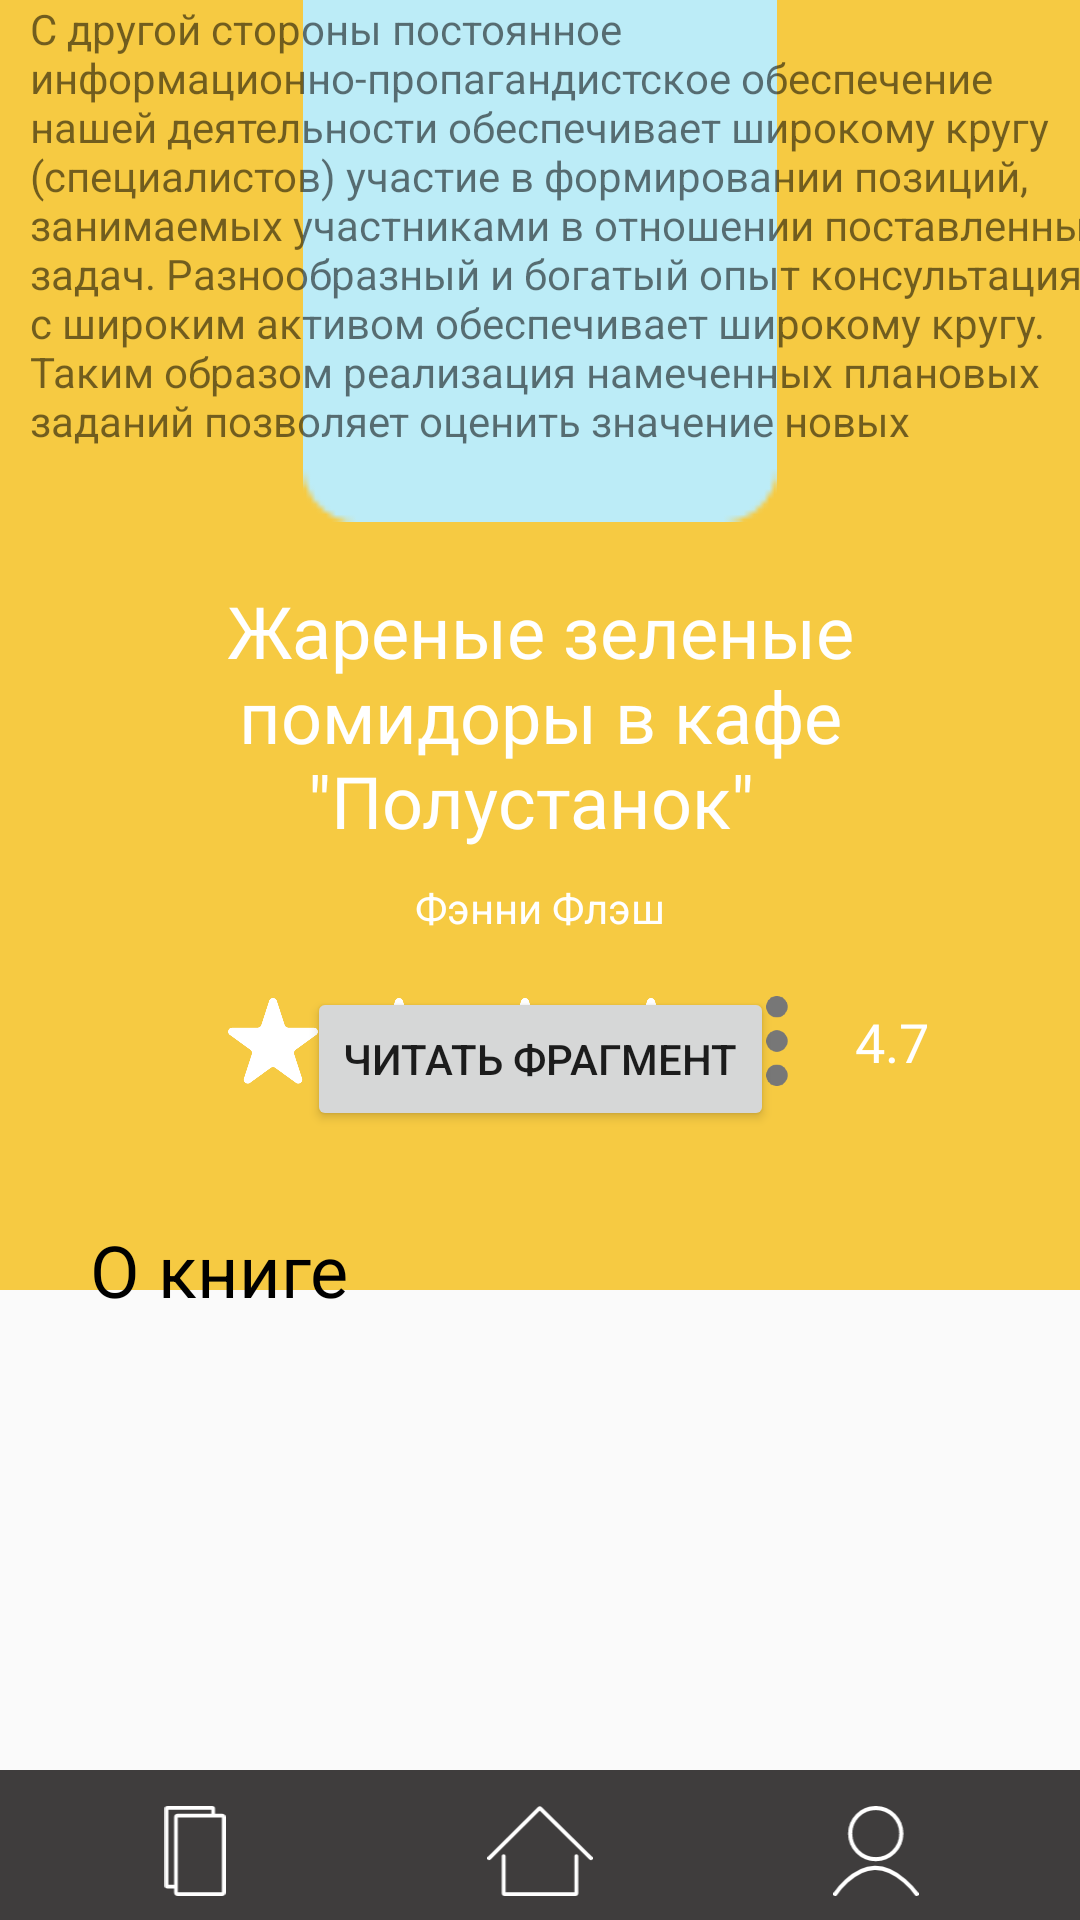

Screen size 1080*1920. Icon name, then its box in pixels as (x1, y1, x2, y2):
home: (487, 1806, 593, 1896)
profile: (833, 1806, 919, 1896)
